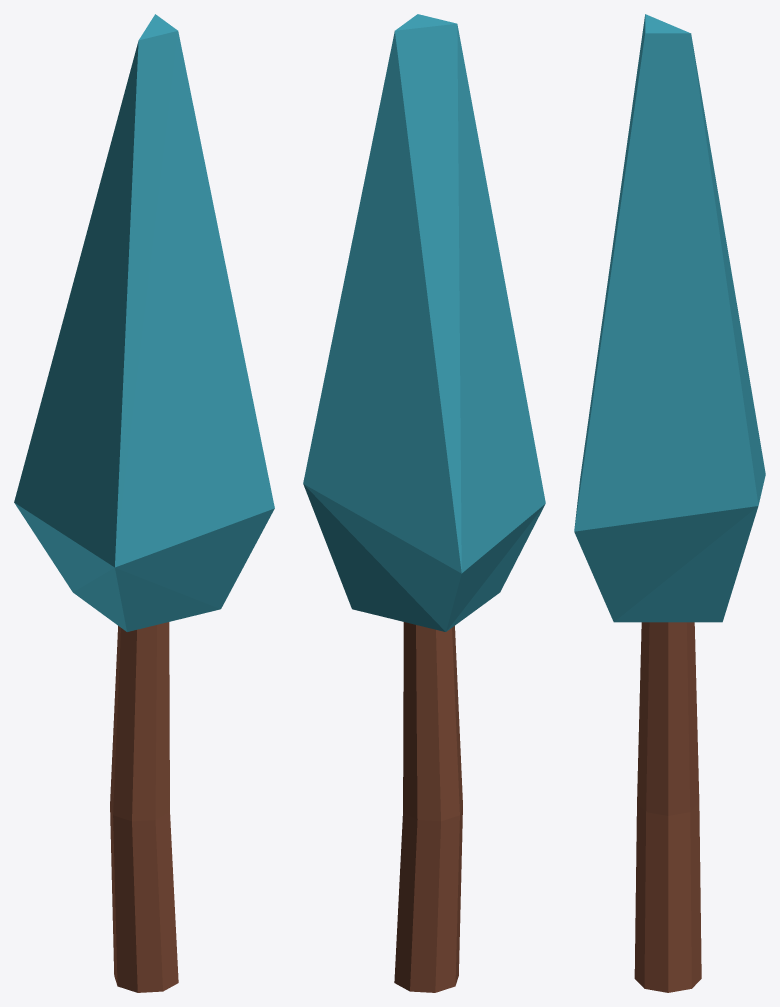
The model's file is Tree_49_summer_blue_mat.fbx.
The picture shows the model from 3 angles, left to right: view 1: azimuth 30°, elevation 25°; view 2: azimuth 150°, elevation 25°; view 3: azimuth 270°, elevation 25°; orthographic projection.
Parts seen in each view (by area): view 1: Tree_49_summer_blue_mat; view 2: Tree_49_summer_blue_mat; view 3: Tree_49_summer_blue_mat.
Boxes of the visible parts, bbox=[...] form: Tree_49_summer_blue_mat: bbox=[14, 14, 274, 992]; Tree_49_summer_blue_mat: bbox=[303, 14, 545, 992]; Tree_49_summer_blue_mat: bbox=[574, 14, 765, 992].
Size of the model in its own units: 47.16 by 259 by 47.16.
